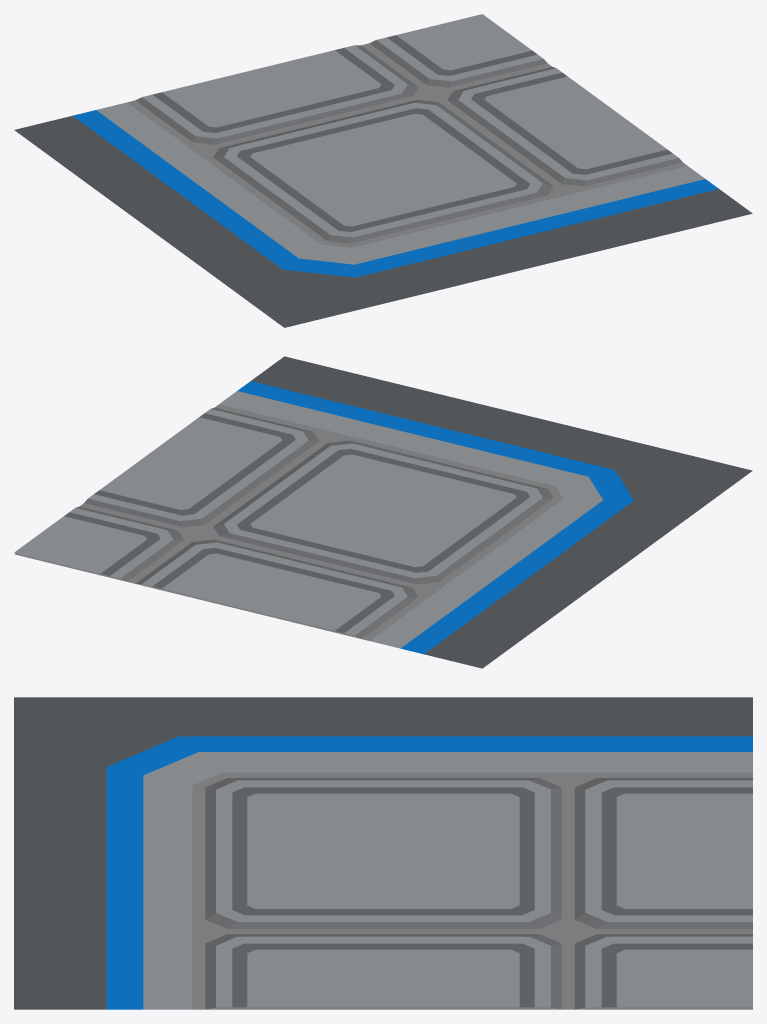
The model's file is Floor_type_B_028.glb.
The picture shows the model from 3 angles, top to bottom: view 1: azimuth 30°, elevation 25°; view 2: azimuth 150°, elevation 25°; view 3: azimuth 270°, elevation 25°; orthographic projection. The views are drawn at different scales.
Visible parts, largest first — view 1: Floor_type_B_028; view 2: Floor_type_B_028; view 3: Floor_type_B_028.
Boxes of the visible parts, x1,y1,x2,y2 form: Floor_type_B_028: [14, 14, 752, 327]; Floor_type_B_028: [14, 356, 752, 668]; Floor_type_B_028: [14, 697, 752, 1009].
Bounding box in the file's own units: 4 × 0.0134 × 4.
2 materials, 2 textured.
